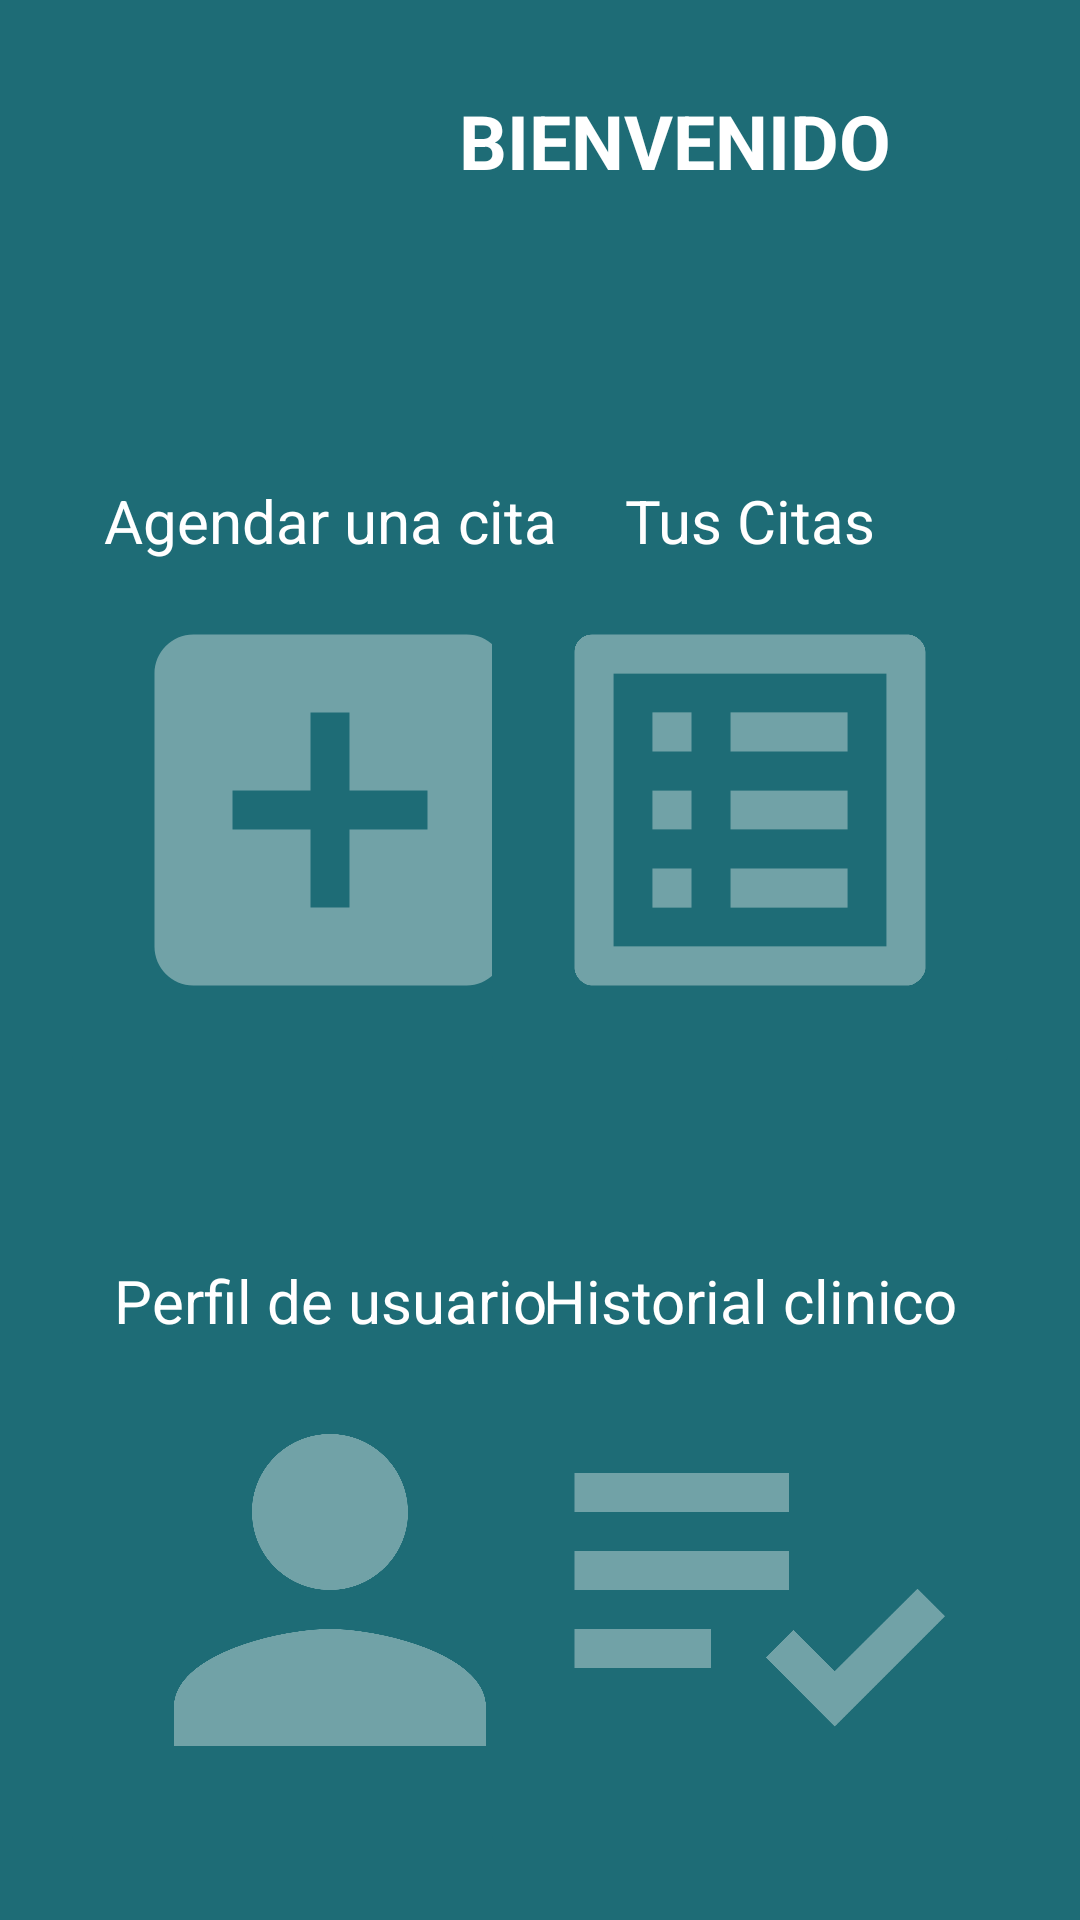

Screen size 1080x1920. Icon name, then its center in pixels as point (x, y):
add box: point (323, 810)
list: point (750, 810)
person: point (330, 1590)
